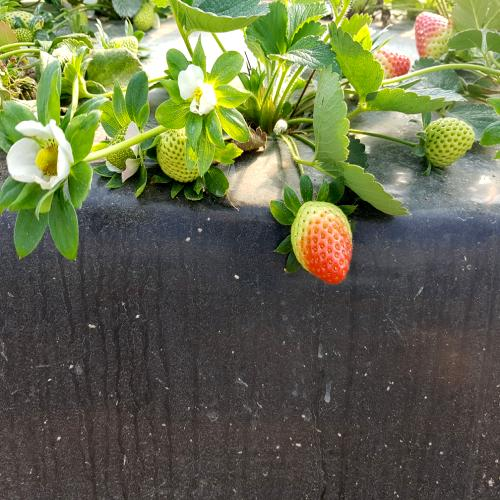partially-ripe: (287, 192, 358, 287)
